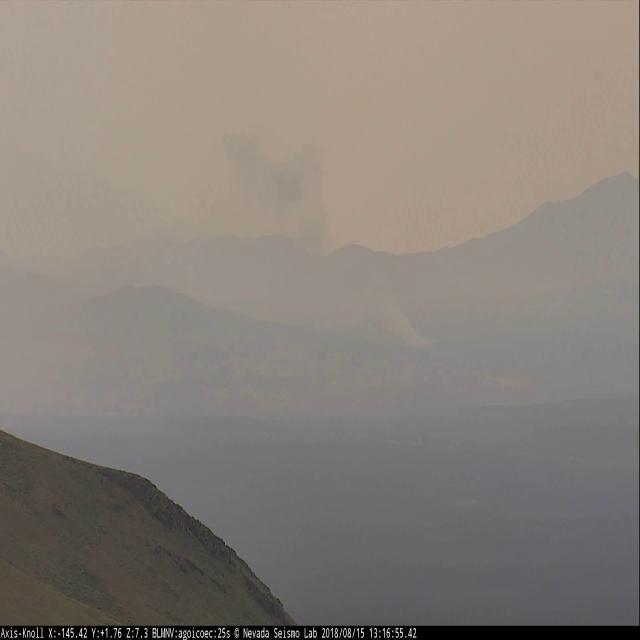smoke: (218, 103, 439, 357)
